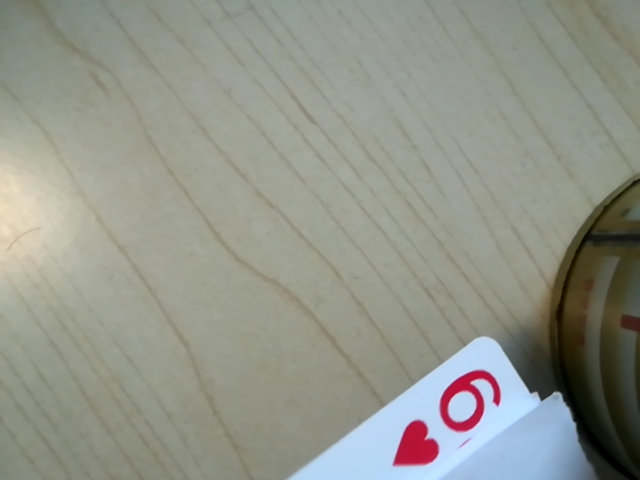hx 6: (408, 365, 517, 464)
